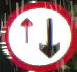Two way: (3, 1, 76, 70)
